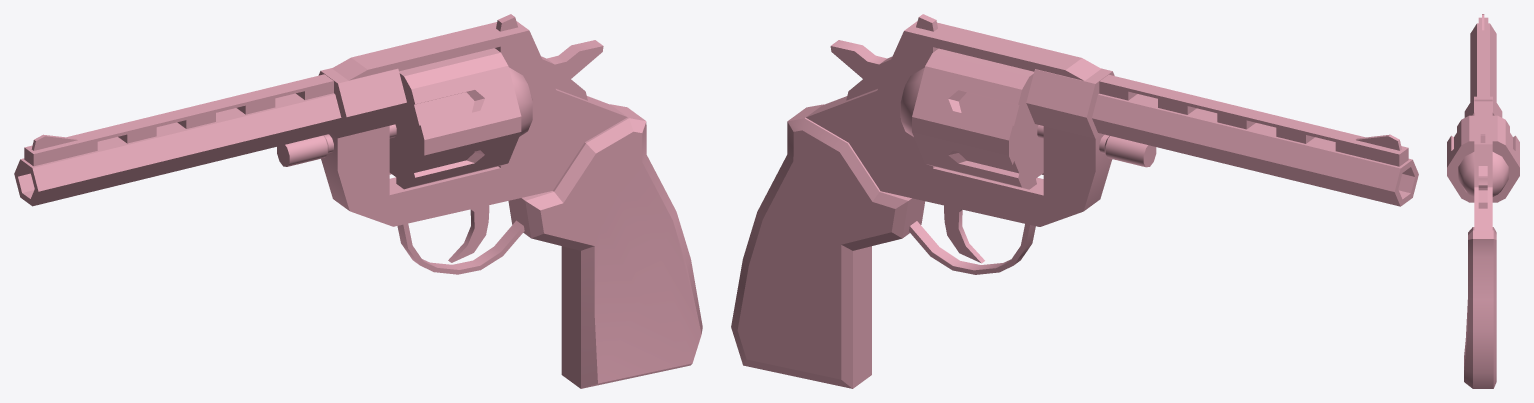
Rendered from Revolver.fbx.
3 views of the same model, side by side, from view 1: azimuth 30°, elevation 25°; view 2: azimuth 150°, elevation 25°; view 3: azimuth 270°, elevation 25° (orthographic). The views are drawn at different scales.
Visible parts, largest first — view 1: Revolver; view 2: Revolver; view 3: Revolver.
Part boxes in pixels (x1,y1,x2,y2): Revolver: (14, 14, 702, 388); Revolver: (731, 14, 1418, 388); Revolver: (1447, 14, 1519, 388).
Bounding box in the file's own units: 33.57 × 18.48 × 5.85.
